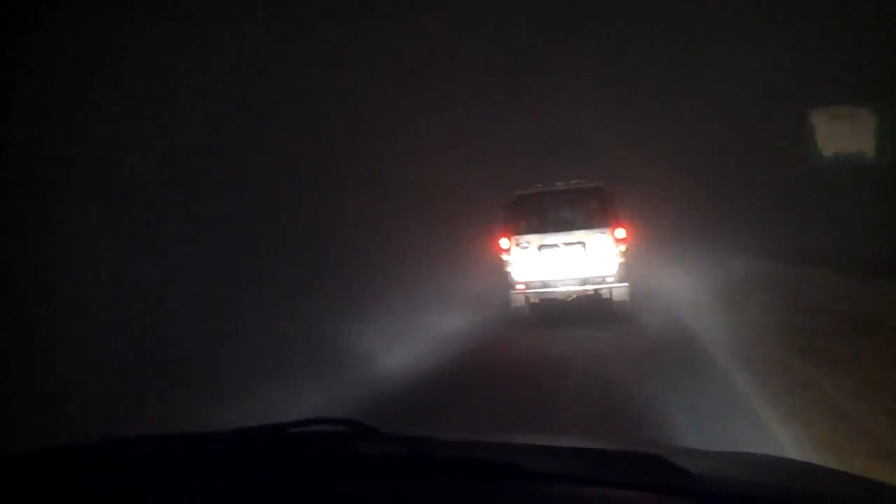car: (496, 175, 635, 319)
